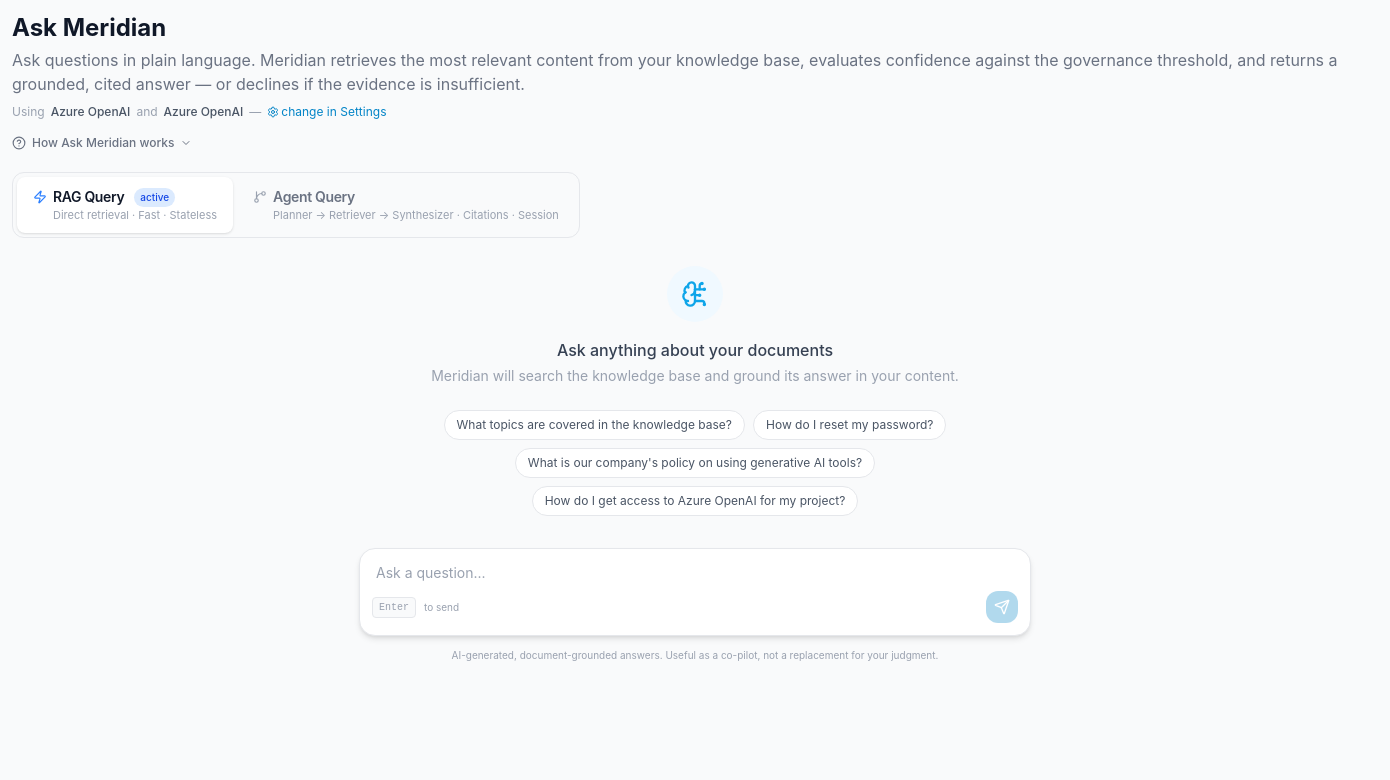
Test: Query page — REFUSED response › shows refusal reason, confidence explanation, and suggestion chips
This screenshot has width=1390, height=780.
Step 1. Type "Tell me about quantum physics" into the text box → [695, 570], box [360, 549, 1030, 591]
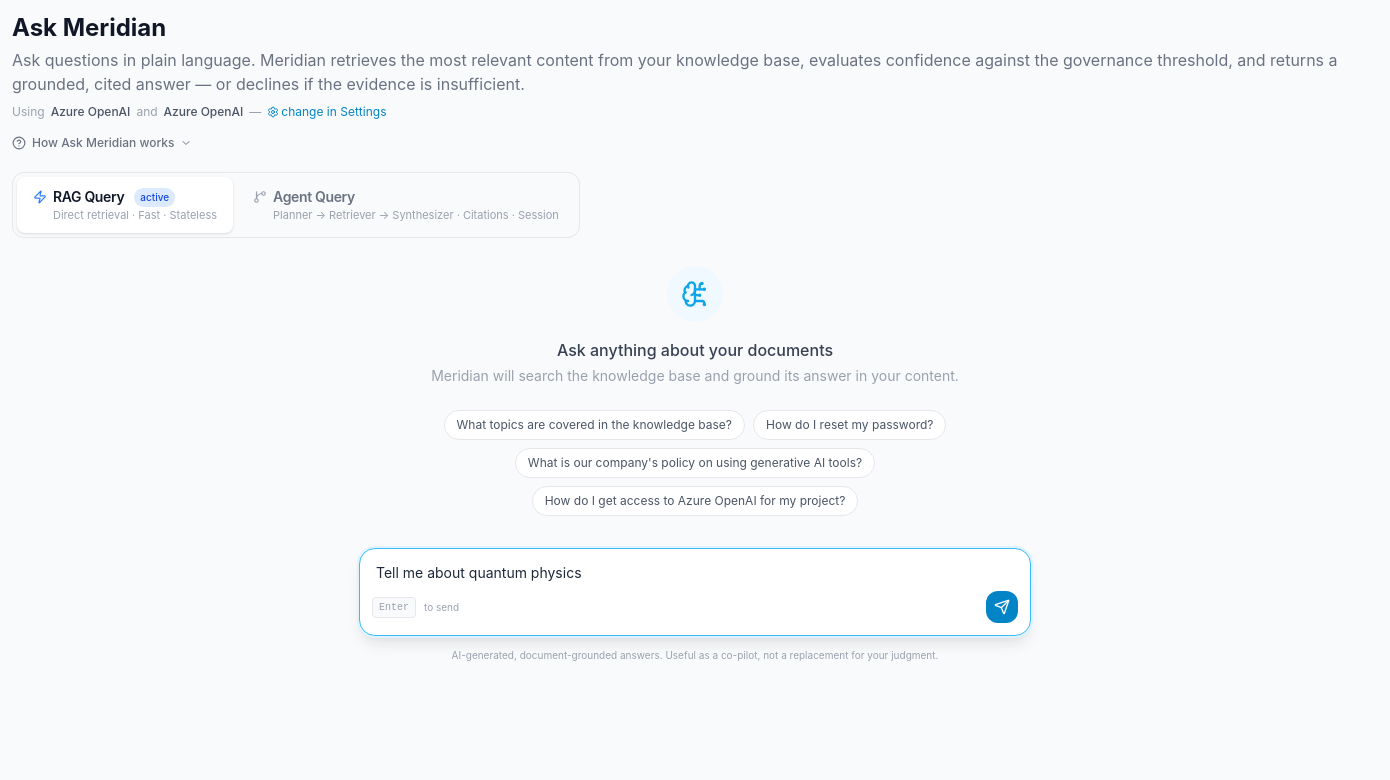
Step 2. Click the button named "Send" → [1002, 607], box [986, 591, 1018, 623]
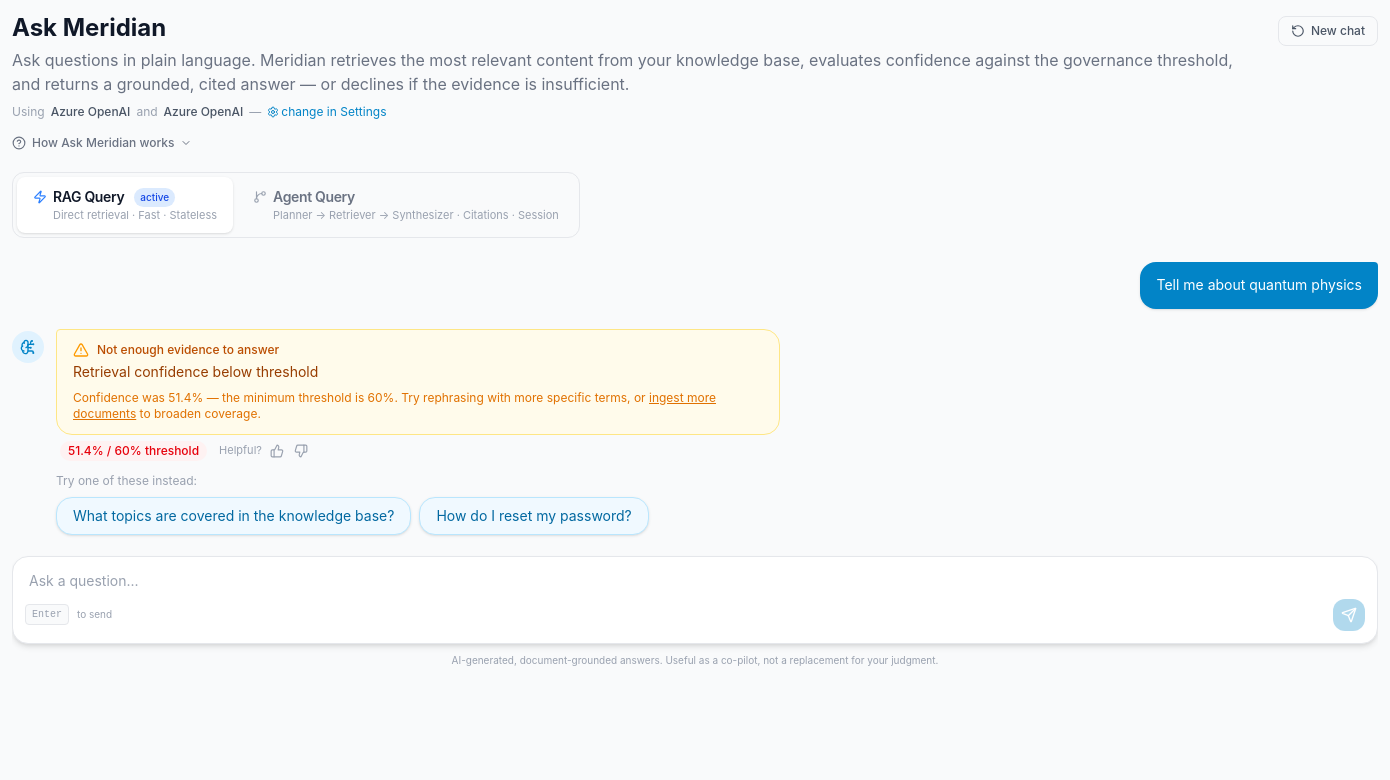
Now the text "Not enough evidence to answer" is shown, box [97, 342, 279, 358]
Now the text "Retrieval confidence below threshold" is shown, box [73, 362, 318, 380]
Now the text "Confidence was 51.4%" is shown, box [73, 390, 203, 404]
